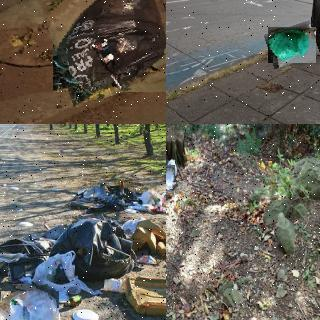Garbage: (46, 0, 166, 99), (49, 212, 137, 282), (266, 24, 318, 66), (0, 287, 62, 320), (31, 250, 77, 286), (166, 164, 176, 189), (167, 158, 179, 178)
